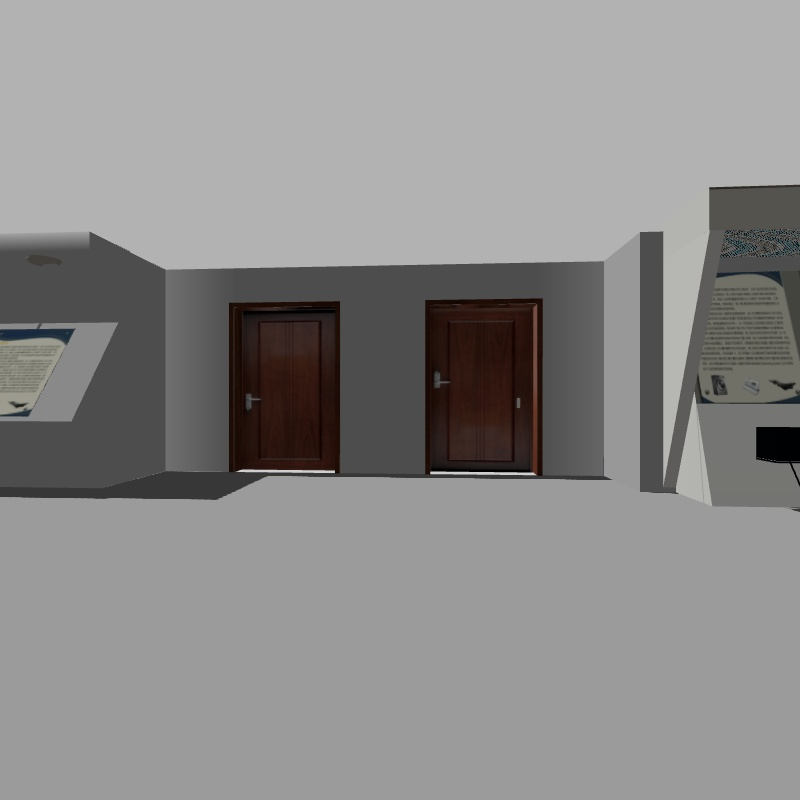handle: (235, 386, 264, 412), (428, 369, 456, 393)
